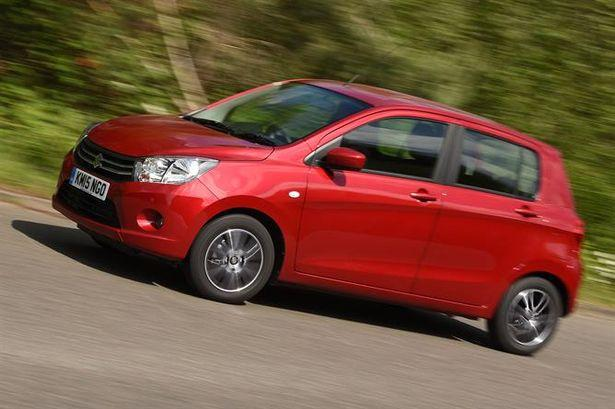windshield: (180, 76, 380, 153)
